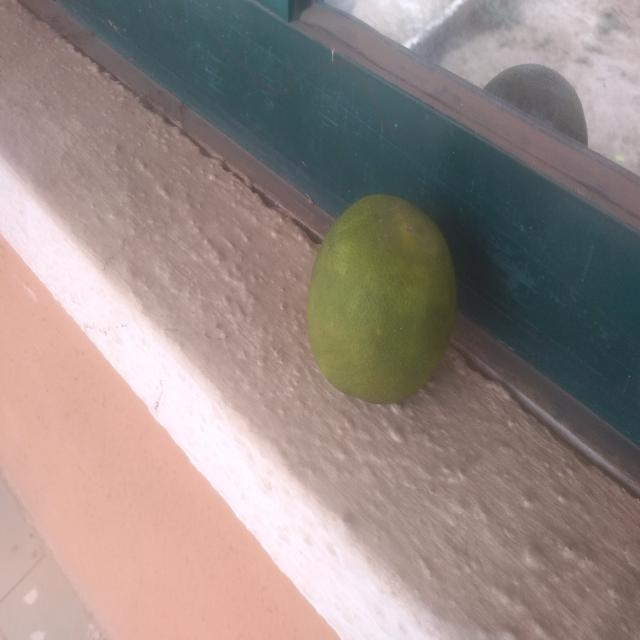agrume: (296, 183, 480, 434)
